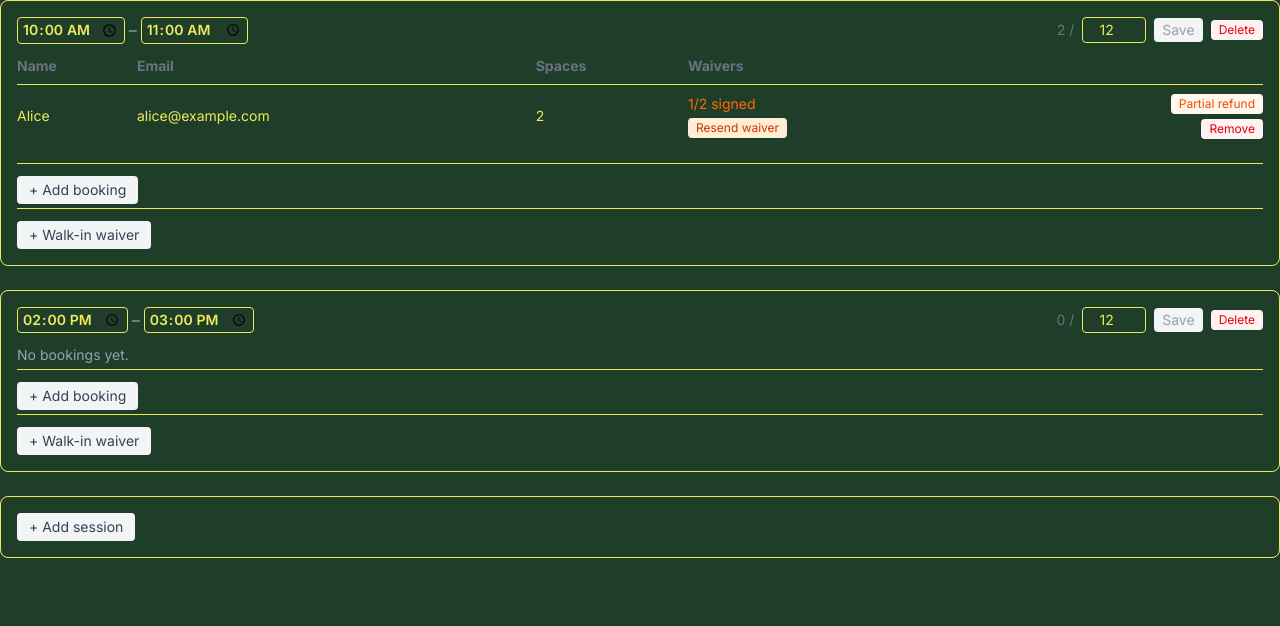
Test case: SlotCapacityEditor › submits a new session with the correct payload
Click the button "+ Add session": (76, 527) [17, 513, 135, 541]
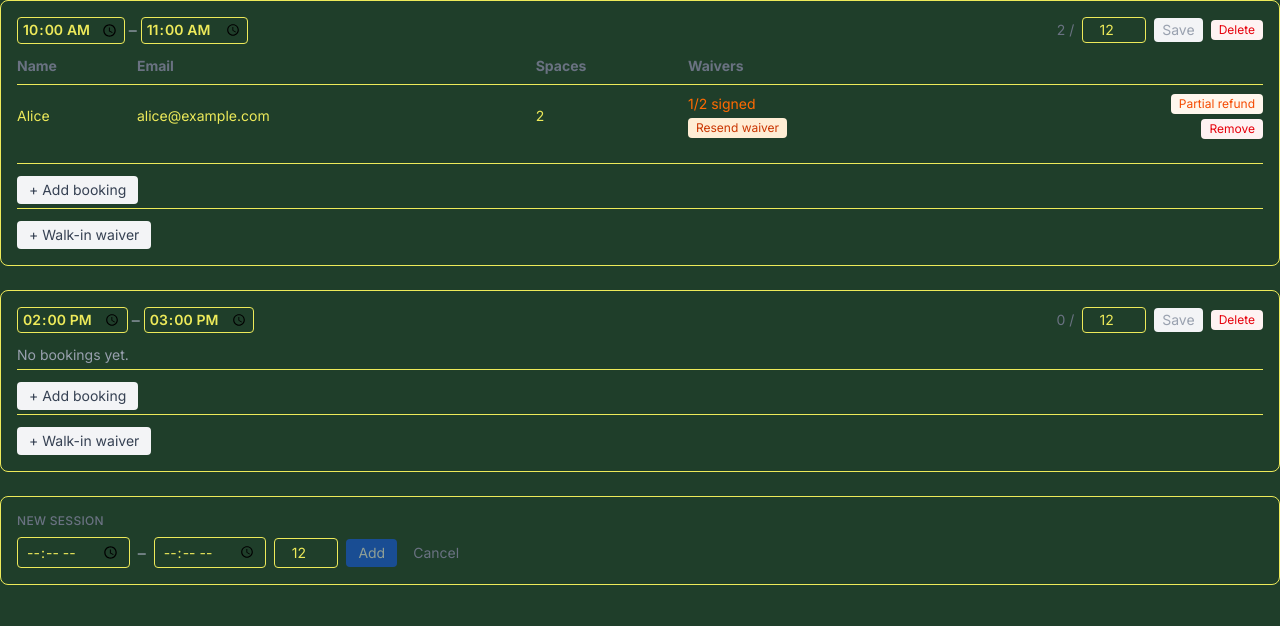
In the 5th time field: (73, 553) [17, 537, 130, 568], type "16:00"
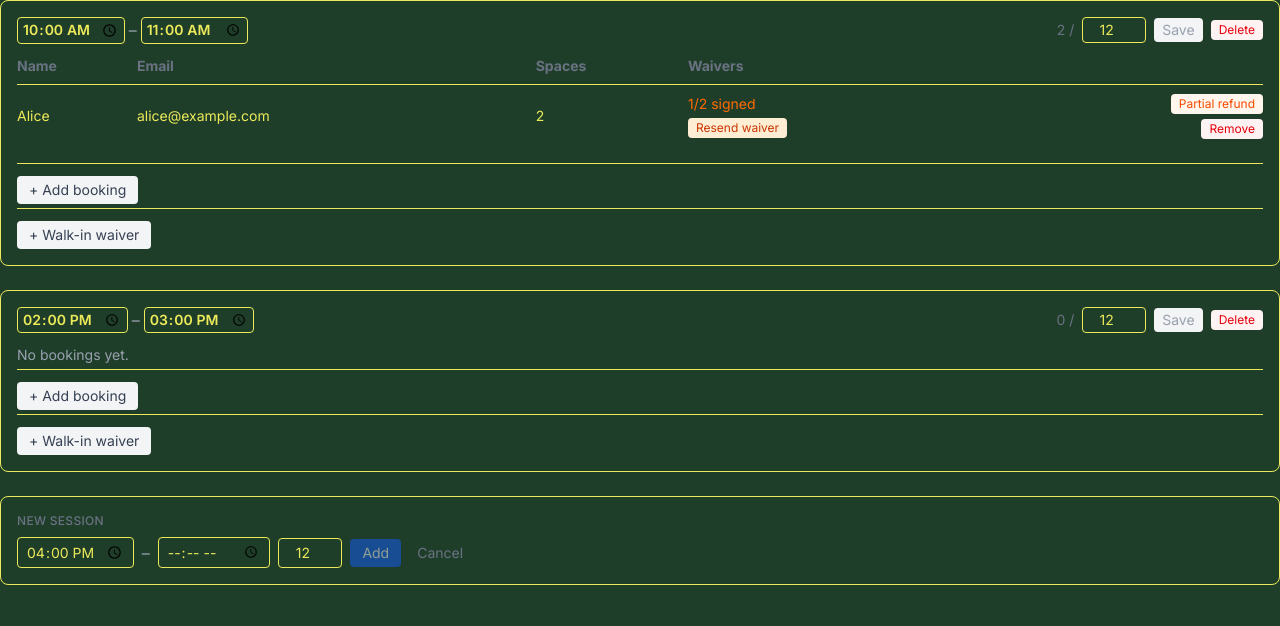
In the 6th time field: (214, 553) [158, 537, 270, 568], type "17:00"
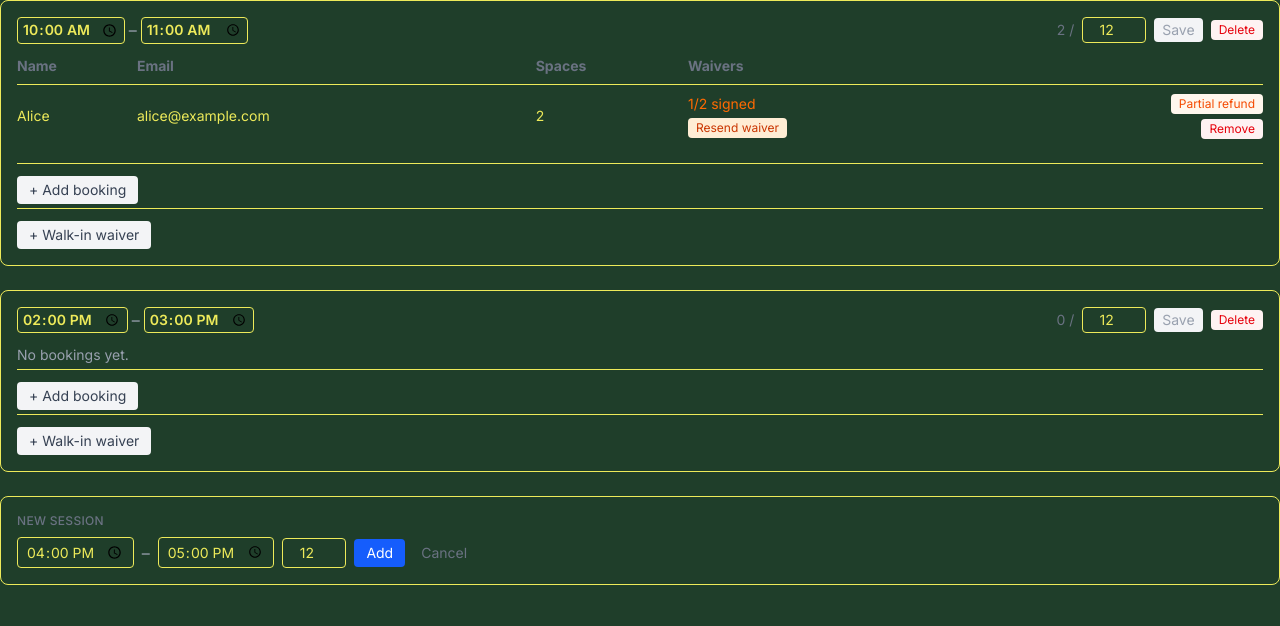
Click the button "Add": (380, 553) [354, 539, 405, 567]
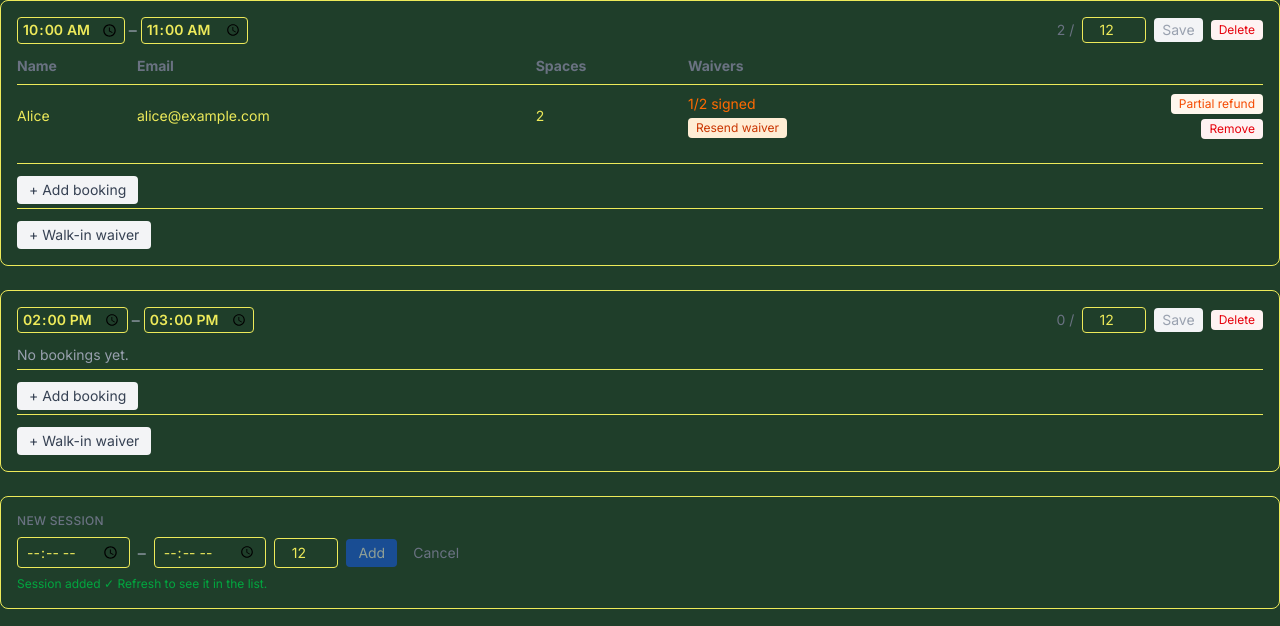
Result: the text "Session added ✓ Refresh to see it in the list." is shown at [17, 576, 267, 591]
